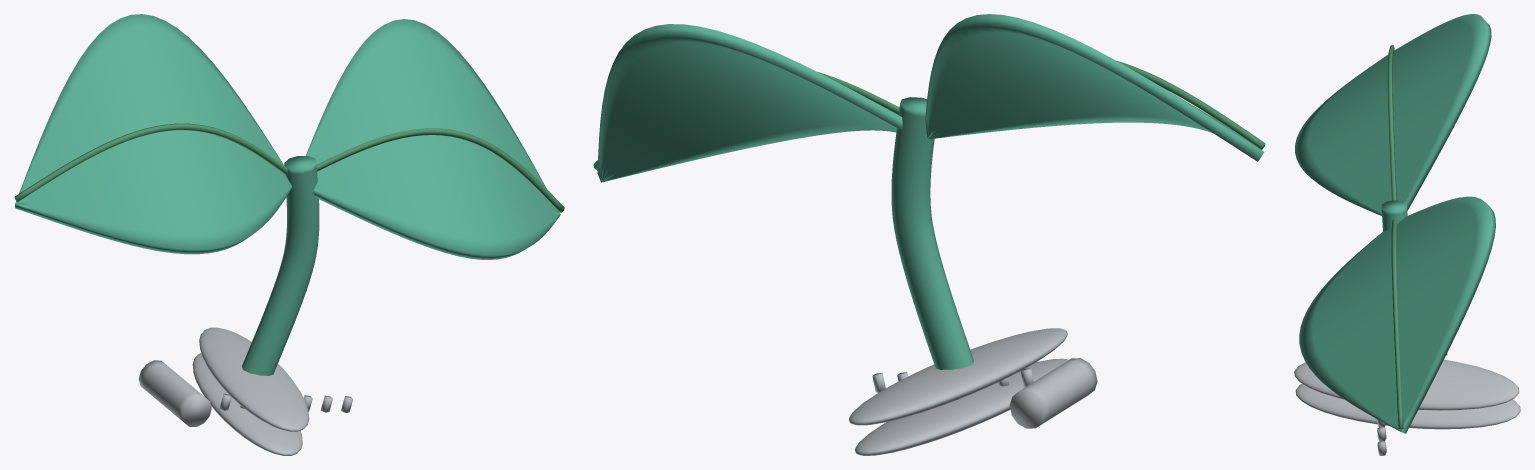
File: Masculine-buzz-ears251-sprout.glb
3 renders of one model, left to right at view 1: azimuth 30°, elevation 25°; view 2: azimuth 150°, elevation 25°; view 3: azimuth 270°, elevation 25°, orthographic. The views are drawn at different scales.
Visible parts, largest first — view 1: 226 extra / Accessory / mint226, 226 extra / Sprout / clip silver235, 226 extra / Sprout / leaf vein235; view 2: 226 extra / Accessory / mint226, 226 extra / Sprout / clip silver235, 226 extra / Sprout / leaf vein235; view 3: 226 extra / Accessory / mint226, 226 extra / Sprout / clip silver235, 226 extra / Sprout / leaf vein235.
Boxes of the visible parts, bbox=[...] form: 226 extra / Accessory / mint226: bbox=[15, 14, 560, 375]; 226 extra / Sprout / clip silver235: bbox=[138, 327, 352, 455]; 226 extra / Sprout / leaf vein235: bbox=[14, 123, 564, 212]; 226 extra / Accessory / mint226: bbox=[597, 14, 1264, 369]; 226 extra / Sprout / clip silver235: bbox=[849, 328, 1097, 455]; 226 extra / Sprout / leaf vein235: bbox=[593, 61, 1265, 170]; 226 extra / Accessory / mint226: bbox=[1295, 14, 1495, 433]; 226 extra / Sprout / clip silver235: bbox=[1294, 353, 1520, 455]; 226 extra / Sprout / leaf vein235: bbox=[1387, 45, 1403, 429].
Size of the model in its own units: 0.2631 by 0.1789 by 0.102.
